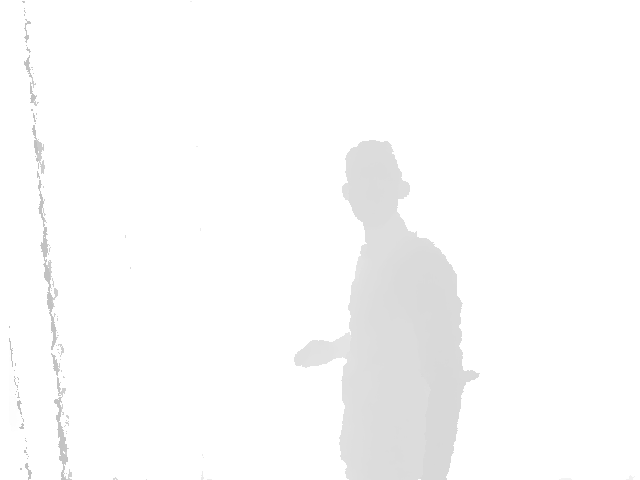head: (341, 139, 410, 228)
person: (292, 139, 484, 480)
